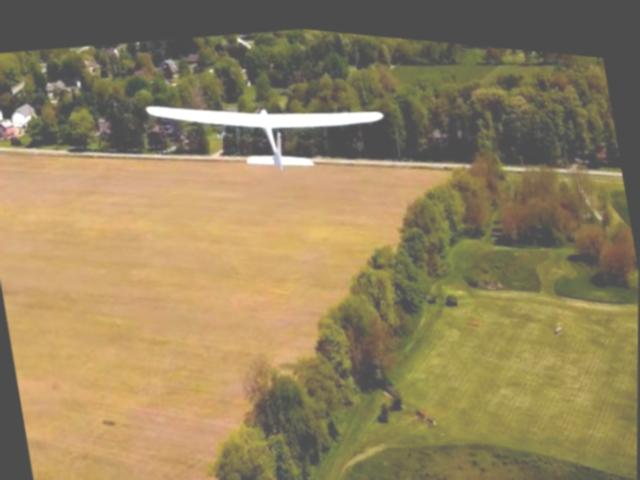iha: (143, 53, 391, 194)
